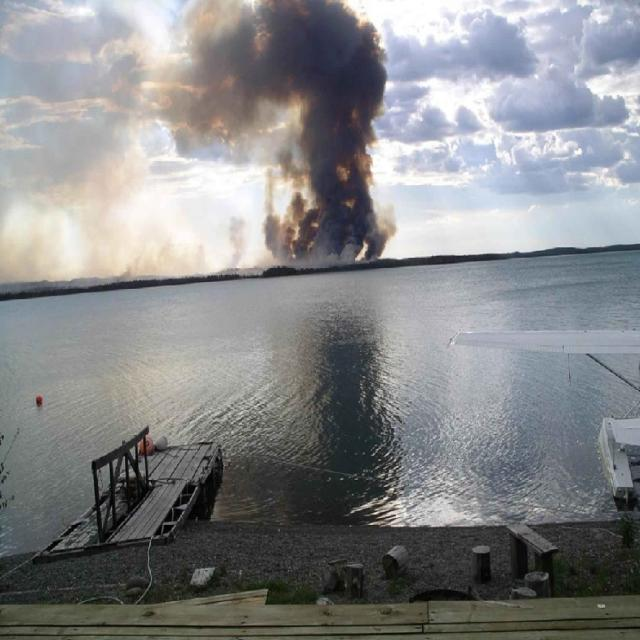smoke: (203, 7, 385, 260), (4, 197, 189, 275)
